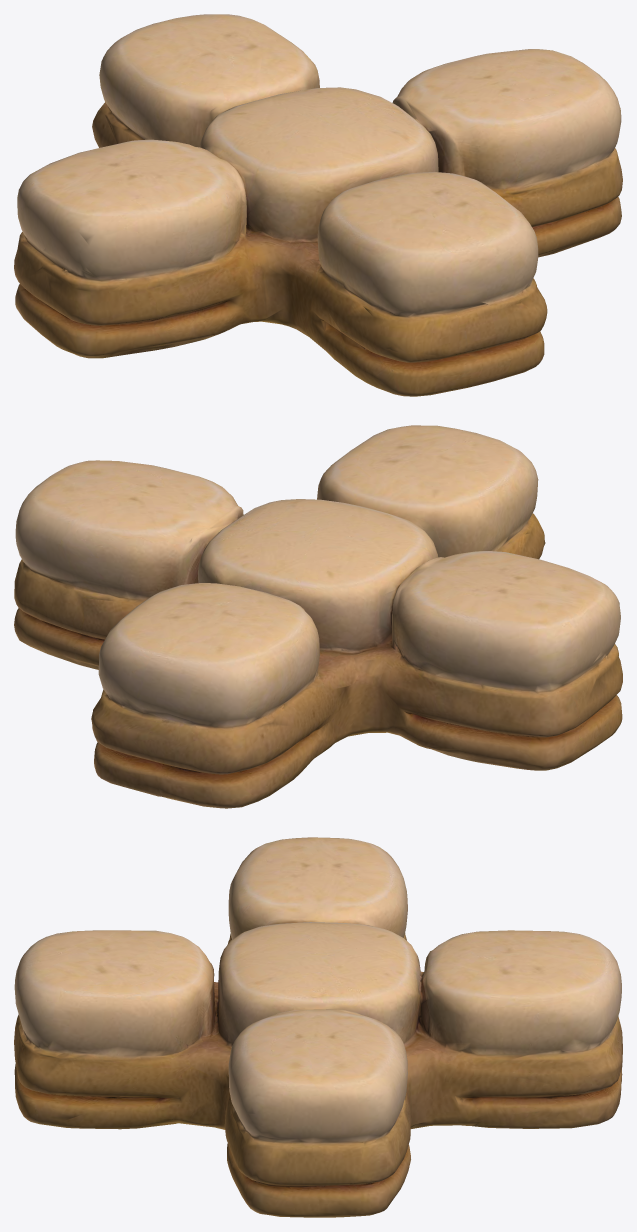
The model's file is road-cross.glb.
3 views of the same model, one above another, from view 1: azimuth 30°, elevation 25°; view 2: azimuth 150°, elevation 25°; view 3: azimuth 270°, elevation 25° (orthographic). The views are drawn at different scales.
Parts seen in each view (by area): view 1: Mesh_0; view 2: Mesh_0; view 3: Mesh_0.
Part boxes in pixels (x1,y1,x2,y2): Mesh_0: [14, 14, 622, 396]; Mesh_0: [14, 425, 622, 808]; Mesh_0: [14, 837, 622, 1217].
Bounding box in the file's own units: 2 × 0.5177 × 2.
Materials: 1 (1 with a texture image).
